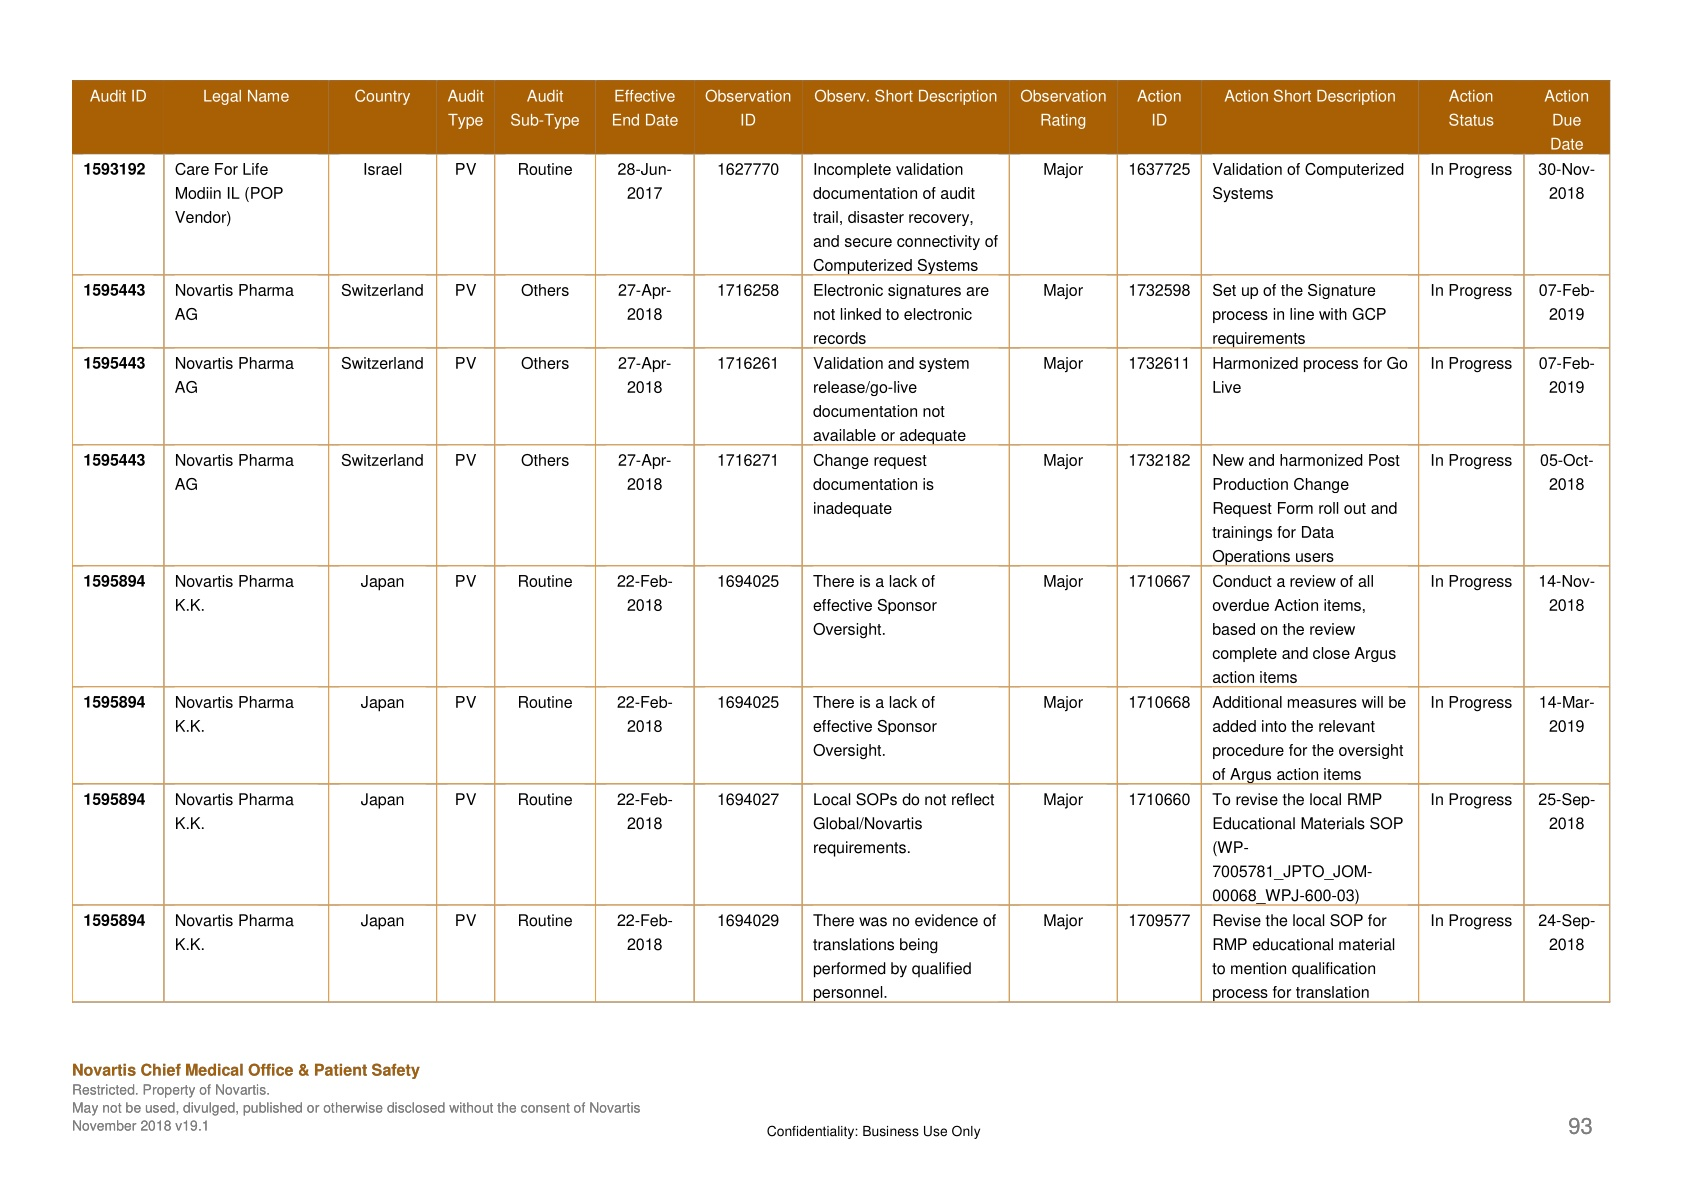full_lined: (71, 79, 1611, 1003)
